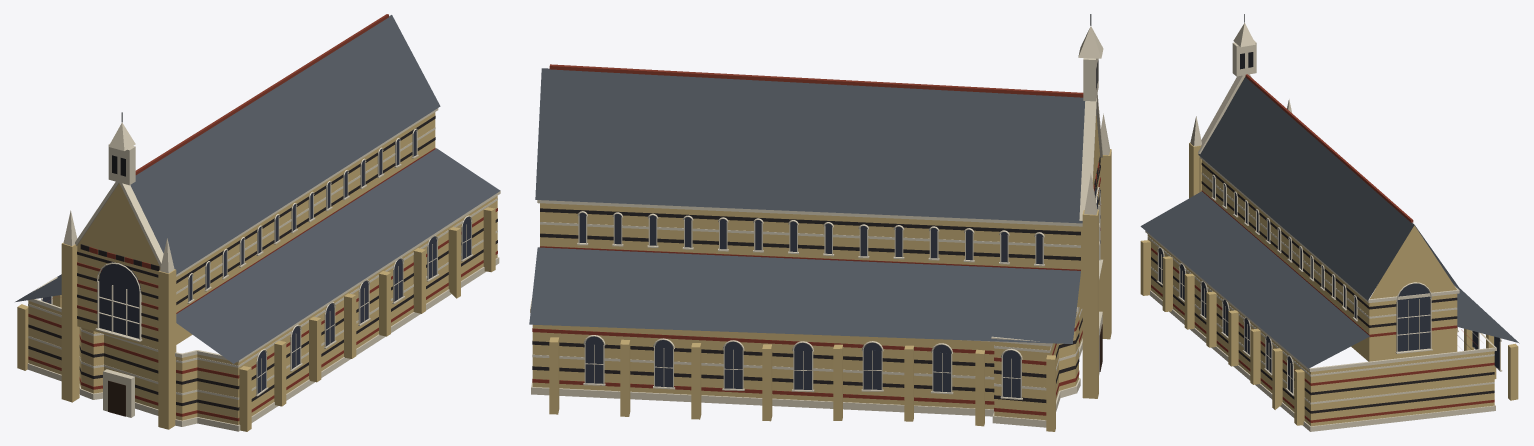
The model's file is st_augustines_queens_gate.glb.
3 renders of one model, left to right at view 1: azimuth 30°, elevation 25°; view 2: azimuth 150°, elevation 25°; view 3: azimuth 270°, elevation 25°, orthographic. The views are drawn at different scales.
Size of the model in its own units: 49.74 by 30.74 by 40.8.
